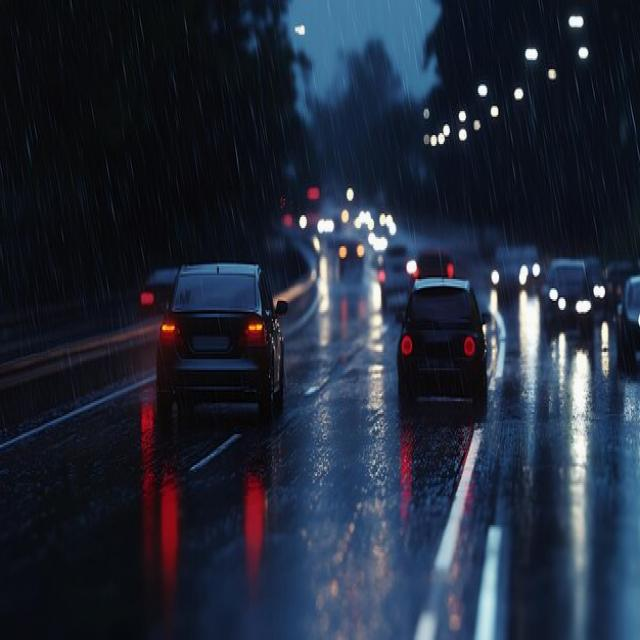Vehicle: (152, 252, 298, 425), (395, 269, 491, 432), (539, 252, 596, 346), (334, 225, 369, 291), (375, 235, 394, 307)
